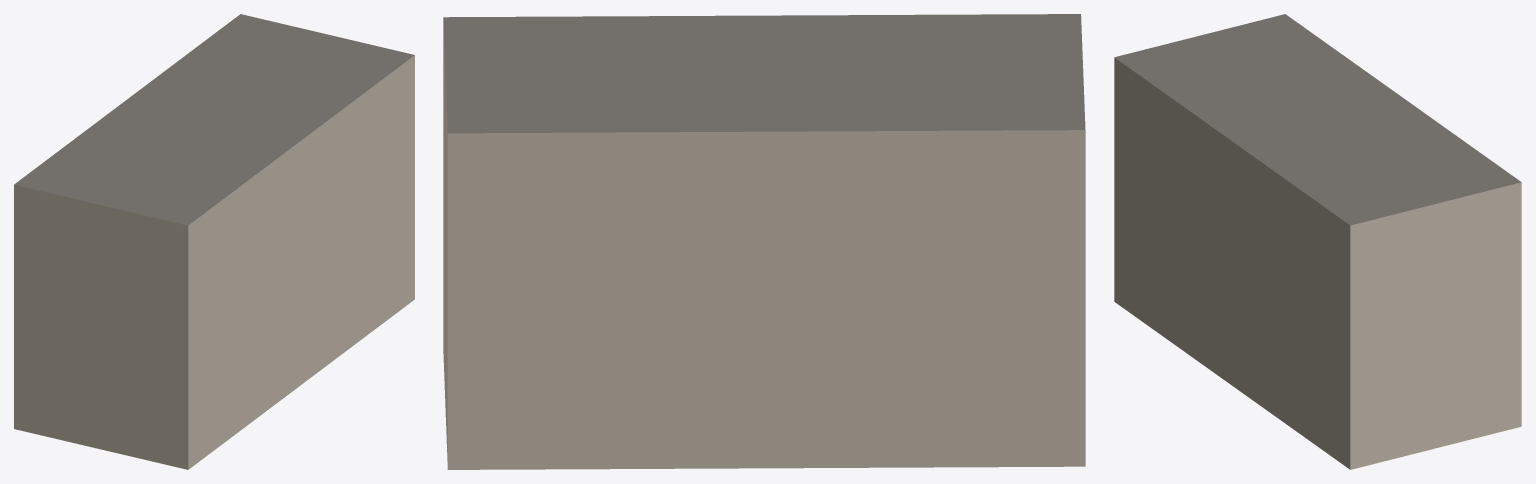
3 views of the same model, side by side, from view 1: azimuth 30°, elevation 25°; view 2: azimuth 150°, elevation 25°; view 3: azimuth 270°, elevation 25° (orthographic). The views are drawn at different scales.
Parts seen in each view (by area): view 1: HP-w859488775; view 2: HP-w859488775; view 3: HP-w859488775.
Boxes of the visible parts, bbox=[...] form: HP-w859488775: bbox=[14, 14, 414, 469]; HP-w859488775: bbox=[443, 14, 1085, 469]; HP-w859488775: bbox=[1114, 14, 1521, 469].
Bounding box in the file's own units: 33.42 × 18 × 27.2.
